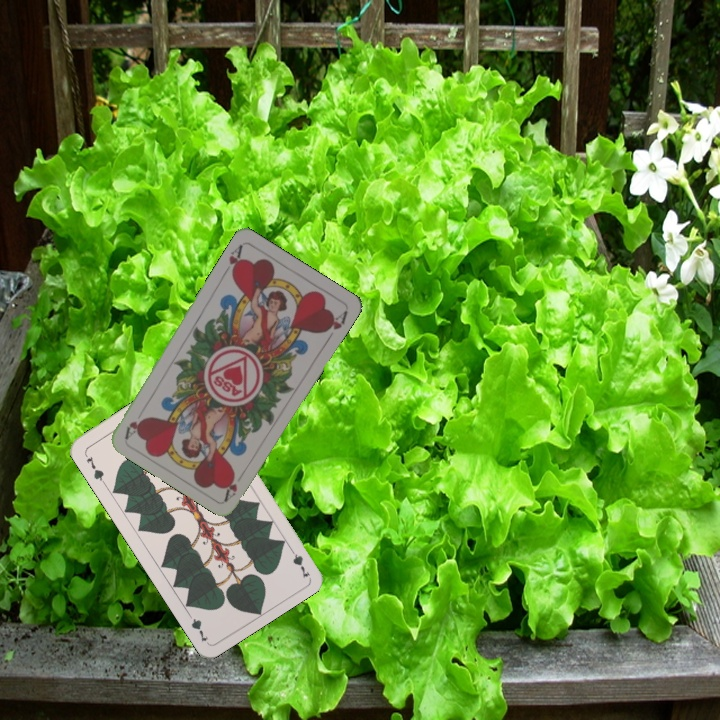G7: (285, 542, 312, 581), (81, 449, 108, 486)
HA: (220, 466, 247, 503), (225, 241, 245, 280)
